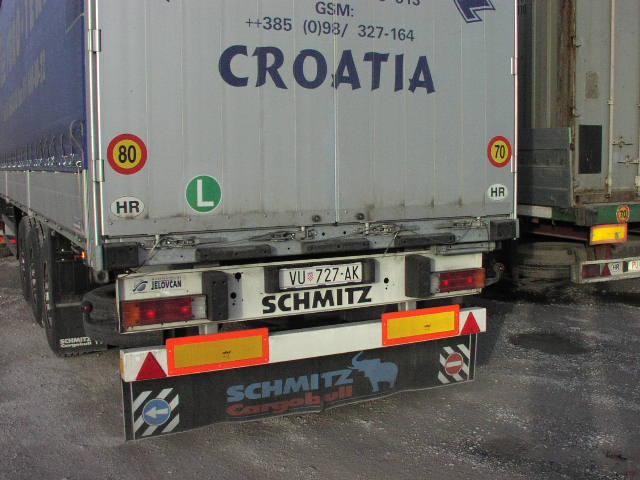licencePlate: (283, 264, 366, 286)
